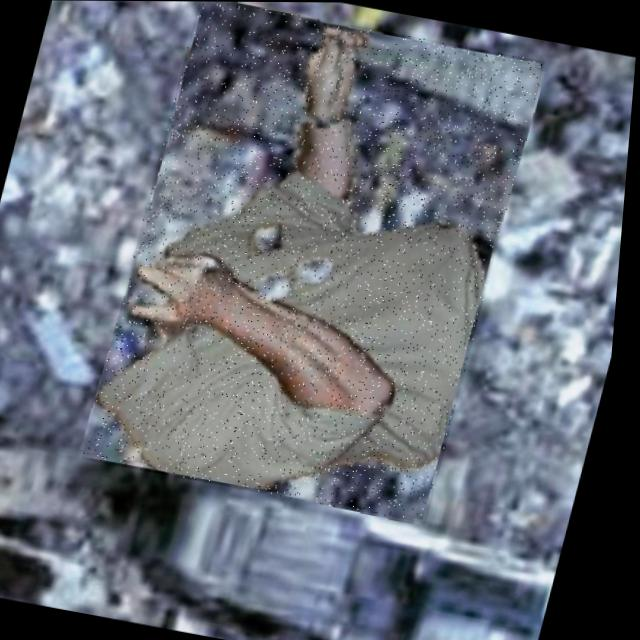Person in Rubble: (85, 1, 549, 522)
